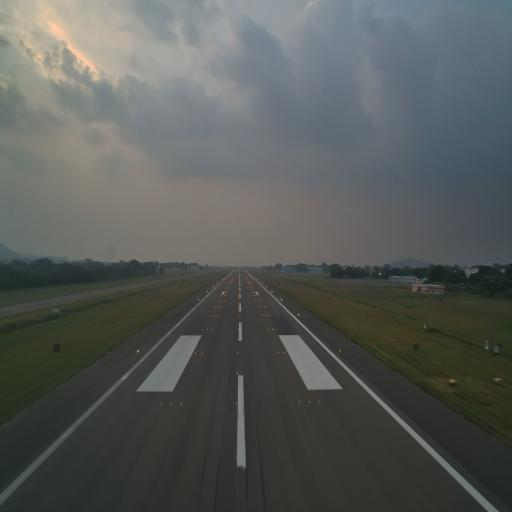off: (233, 452, 238, 462)
on: (159, 400, 163, 408), (178, 400, 182, 407), (308, 399, 312, 406), (317, 398, 321, 405), (170, 400, 173, 408), (136, 348, 140, 354), (194, 350, 198, 356), (290, 349, 293, 356), (236, 370, 240, 375), (338, 348, 342, 353), (235, 401, 238, 407), (298, 399, 301, 405), (201, 351, 204, 356), (277, 350, 280, 355), (283, 350, 286, 354), (188, 351, 190, 355), (237, 350, 239, 354)
